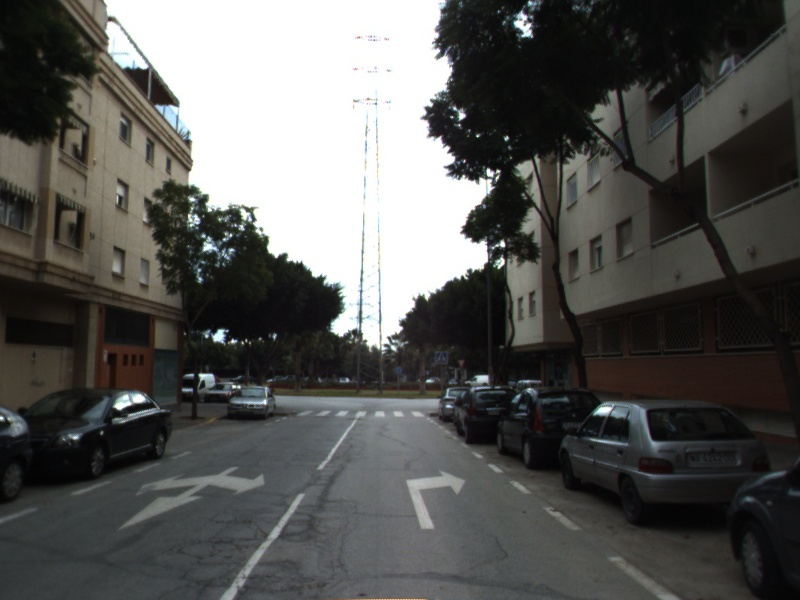RIGHT: (404, 467, 468, 531)
